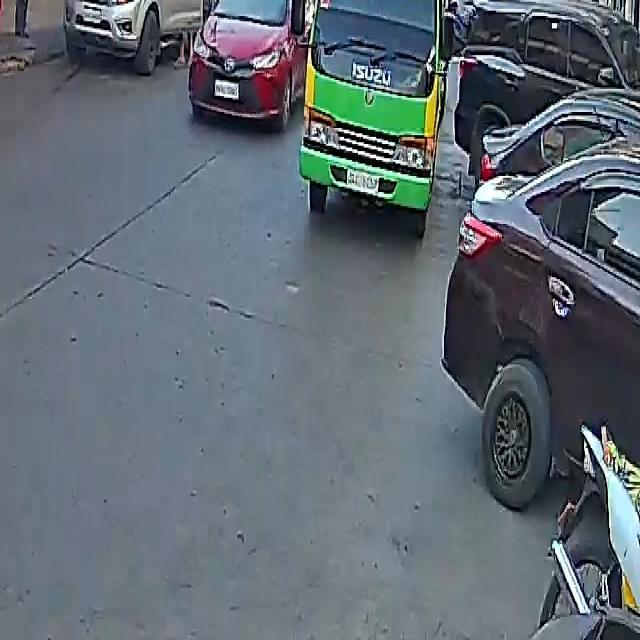car: (441, 68, 640, 526), (452, 0, 639, 180), (189, 0, 306, 124), (61, 0, 207, 76)
